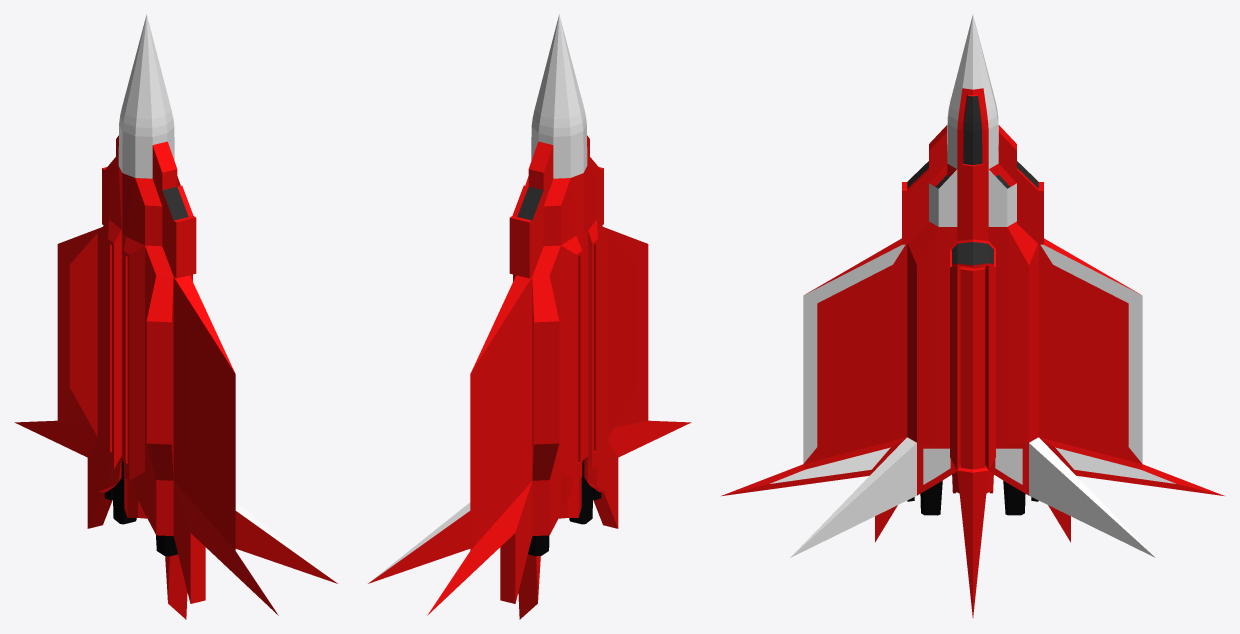
3 views of the same model, side by side, from view 1: azimuth 30°, elevation 25°; view 2: azimuth 150°, elevation 25°; view 3: azimuth 270°, elevation 25° (orthographic). The views are drawn at different scales.
Visible parts, largest first — view 1: 圆锥_1; view 2: 圆锥_1; view 3: 圆锥_1.
Part boxes in pixels (left/top/right/bottom): 圆锥_1: left=14, top=14, right=337, bottom=619; 圆锥_1: left=368, top=14, right=691, bottom=619; 圆锥_1: left=721, top=15, right=1224, bottom=617.
Bounding box in the file's own units: 552 × 2409 × 1880.
